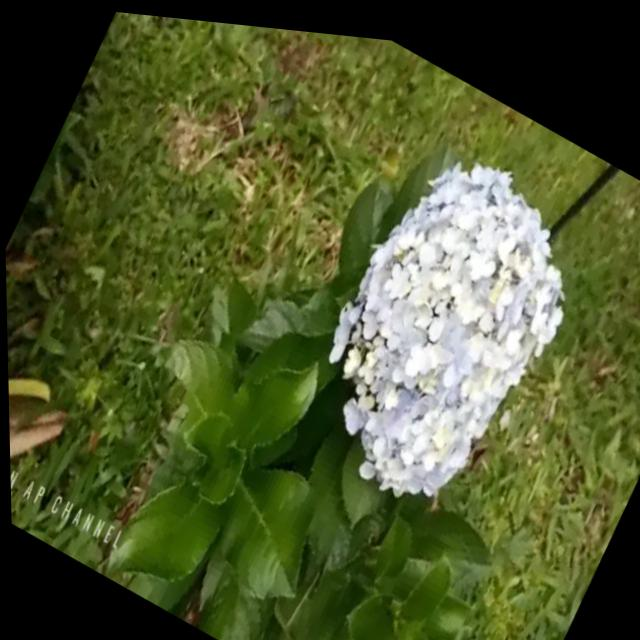Flower: (273, 101, 617, 554)
